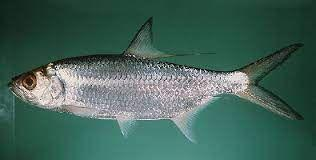Indo-Pacific Tarpon: (9, 18, 305, 145)
